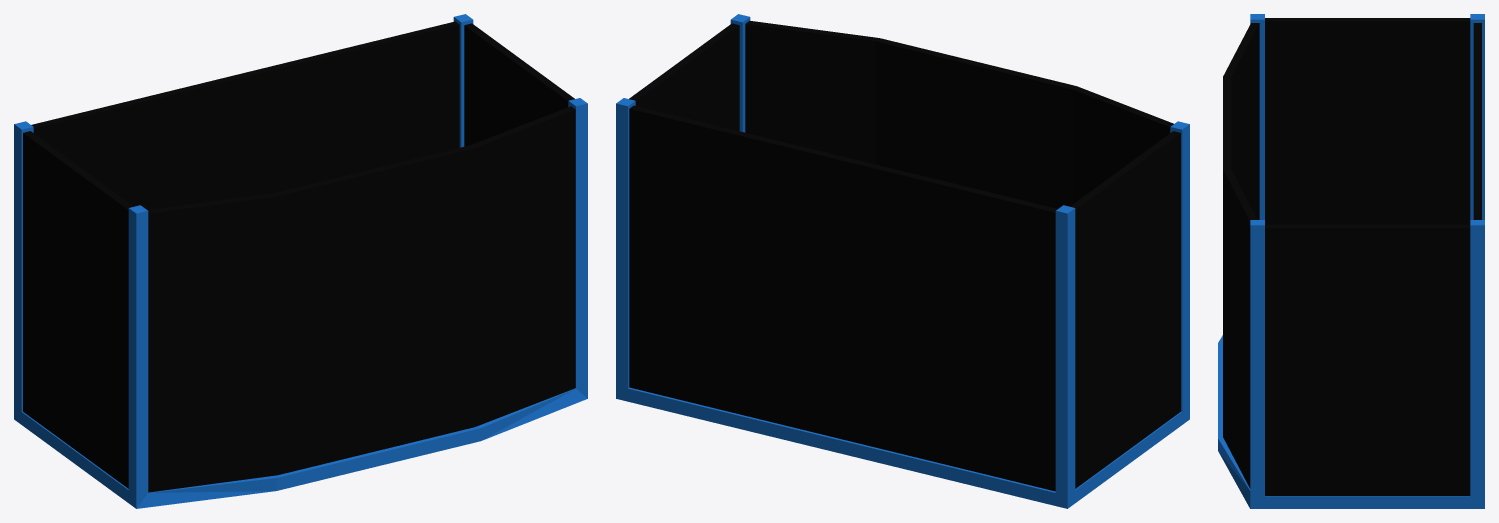
File: SM_aquarium_1.fbx
The picture shows the model from 3 angles, left to right: view 1: azimuth 30°, elevation 25°; view 2: azimuth 150°, elevation 25°; view 3: azimuth 270°, elevation 25°; orthographic projection. The views are drawn at different scales.
Parts seen in each view (by area): view 1: Cube_21; view 2: Cube_21; view 3: Cube_21.
Part boxes in pixels (box(x1,y1,x2,y2)): Cube_21: box(14, 14, 587, 508); Cube_21: box(616, 14, 1189, 508); Cube_21: box(1218, 14, 1484, 508).
Bounding box in the file's own units: 63.98 × 40 × 34.1.
